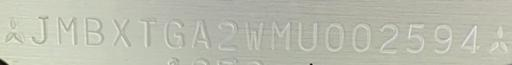letter: (108, 15, 136, 50), (54, 15, 80, 48), (188, 17, 214, 50), (163, 16, 187, 51), (216, 17, 240, 52), (376, 21, 400, 56), (82, 15, 104, 50), (458, 24, 482, 55), (244, 19, 266, 52), (296, 19, 318, 52), (270, 19, 292, 52), (350, 21, 372, 54), (432, 22, 454, 55), (138, 15, 158, 50), (406, 20, 426, 55), (324, 21, 344, 54), (30, 14, 50, 45)
